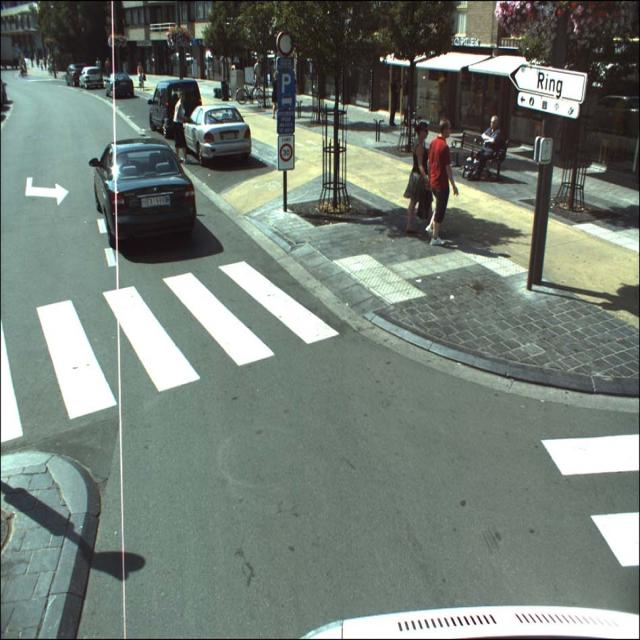park: (277, 72, 295, 96)
